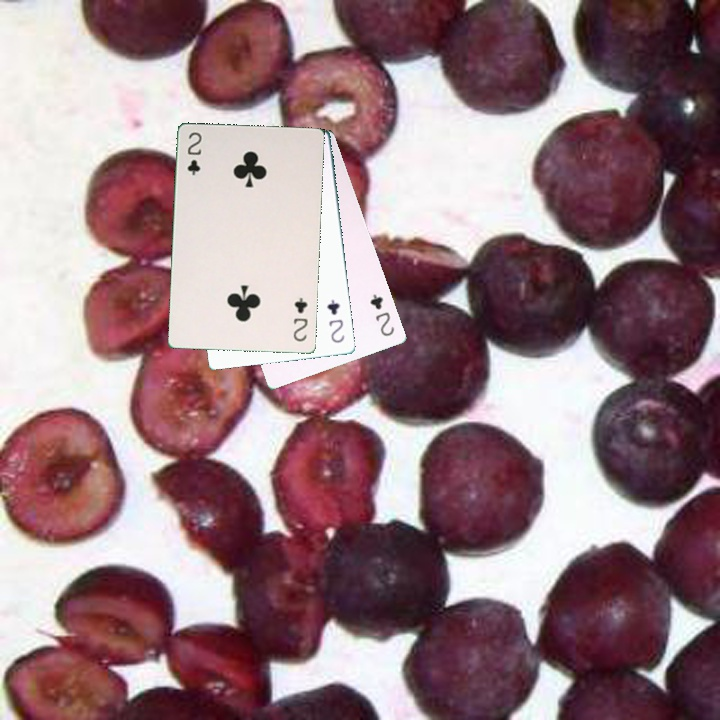2c: (366, 290, 397, 339), (323, 296, 347, 345), (289, 293, 310, 344), (184, 128, 204, 178)
